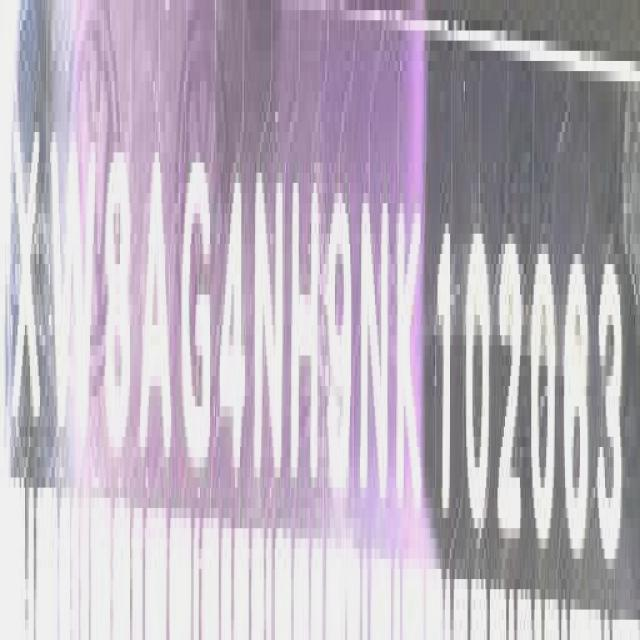0: (462, 212, 490, 538), (530, 244, 556, 546)
1: (433, 195, 455, 528)
2: (496, 222, 524, 549)
3: (599, 245, 626, 571)
4: (217, 157, 247, 488)
6: (560, 248, 592, 564)
8: (105, 138, 132, 464)
9: (327, 177, 353, 500)
A: (139, 141, 172, 466)
G: (177, 158, 213, 478)
H: (291, 162, 322, 482)
K: (394, 192, 424, 527)
N: (254, 150, 286, 490), (360, 177, 392, 508)
W: (50, 127, 100, 459)
X: (13, 127, 42, 453)
